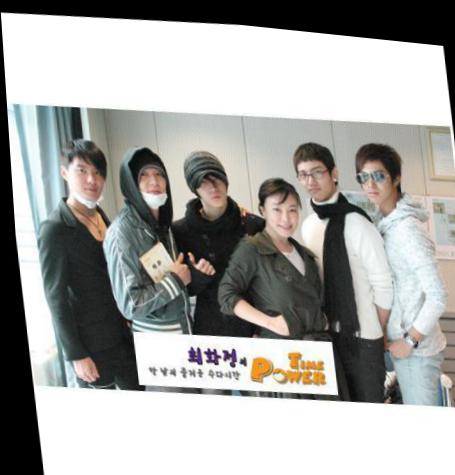NONE: (354, 157, 390, 200), (262, 191, 298, 233), (295, 155, 329, 197), (191, 168, 227, 207)
WRONG: (68, 161, 105, 207), (132, 163, 170, 206)
